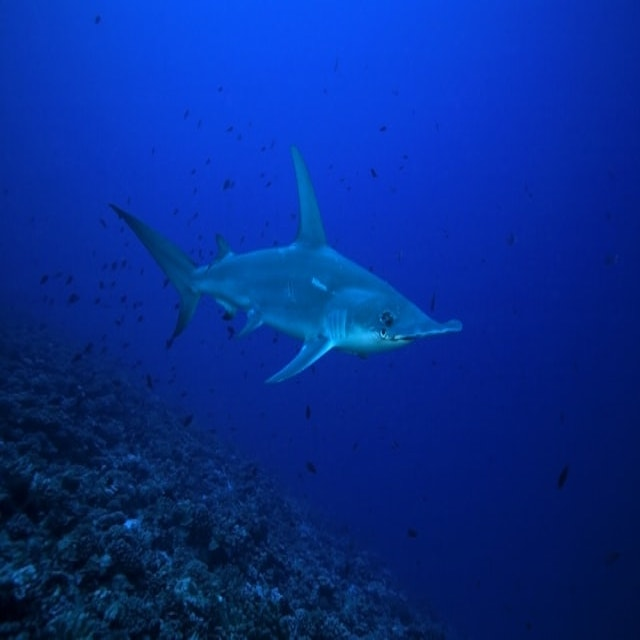hammerhead: (292, 226, 499, 387)
